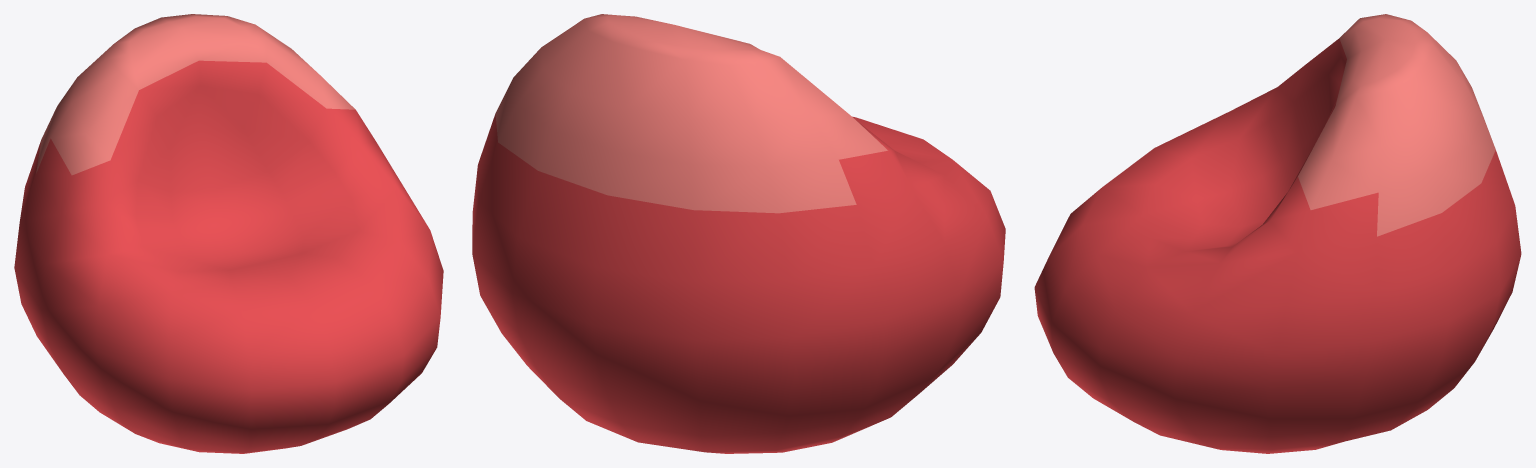
File: pufe_natal_saco_vermelho_pacote.glb
3 renders of one model, left to right at view 1: azimuth 30°, elevation 25°; view 2: azimuth 150°, elevation 25°; view 3: azimuth 270°, elevation 25°, orthographic. The views are drawn at different scales.
Visible parts, largest first — view 1: pufe_natal_saco_vermelho_pacote; view 2: pufe_natal_saco_vermelho_pacote; view 3: pufe_natal_saco_vermelho_pacote.
Part boxes in pixels (left/top/right/bottom): pufe_natal_saco_vermelho_pacote: left=14, top=14, right=443, bottom=453; pufe_natal_saco_vermelho_pacote: left=472, top=14, right=1005, bottom=453; pufe_natal_saco_vermelho_pacote: left=1034, top=14, right=1521, bottom=453.
Size of the model in its own units: 1.04 by 0.9189 by 1.11.
Materials: 1 (1 with a texture image).
